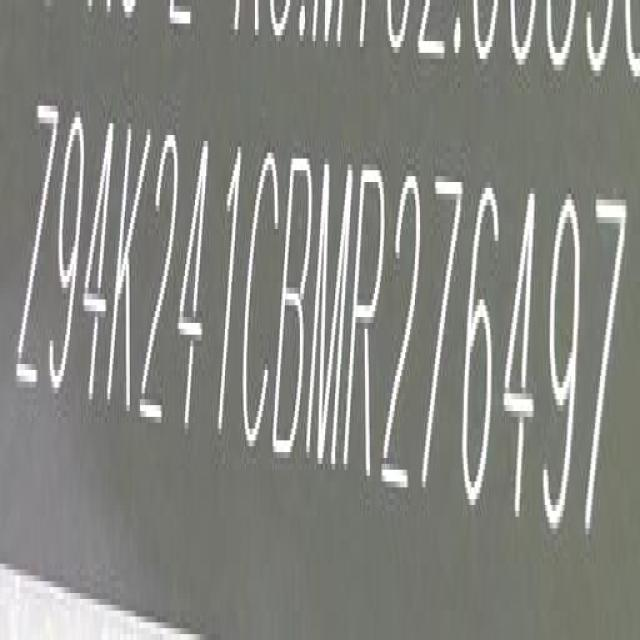1: (212, 141, 243, 451)
2: (386, 167, 426, 495), (140, 130, 178, 432)
4: (501, 184, 540, 528), (80, 111, 118, 412), (176, 135, 213, 441)
6: (461, 177, 500, 517)
7: (586, 191, 628, 550), (424, 161, 462, 503)
9: (544, 194, 582, 544), (47, 107, 85, 405)
B: (276, 149, 318, 466)
C: (240, 148, 282, 456)
K: (111, 122, 149, 423)
M: (306, 165, 352, 470)
R: (345, 165, 387, 486)
Z: (16, 95, 55, 400)
